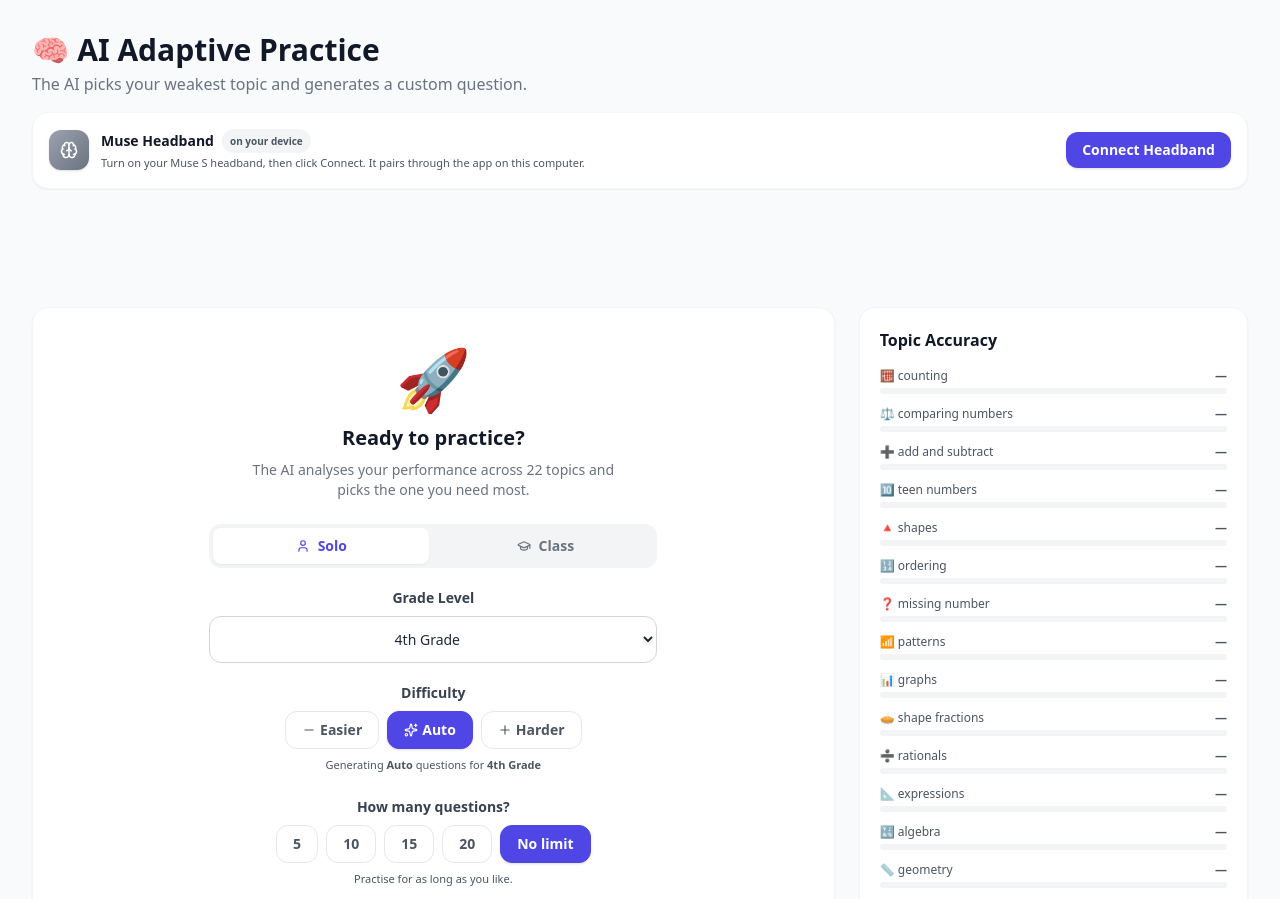
does not stop again a headband the student already disconnected
Click the button "Connect Headband". click: (1149, 150)
box: [1066, 132, 1231, 168]
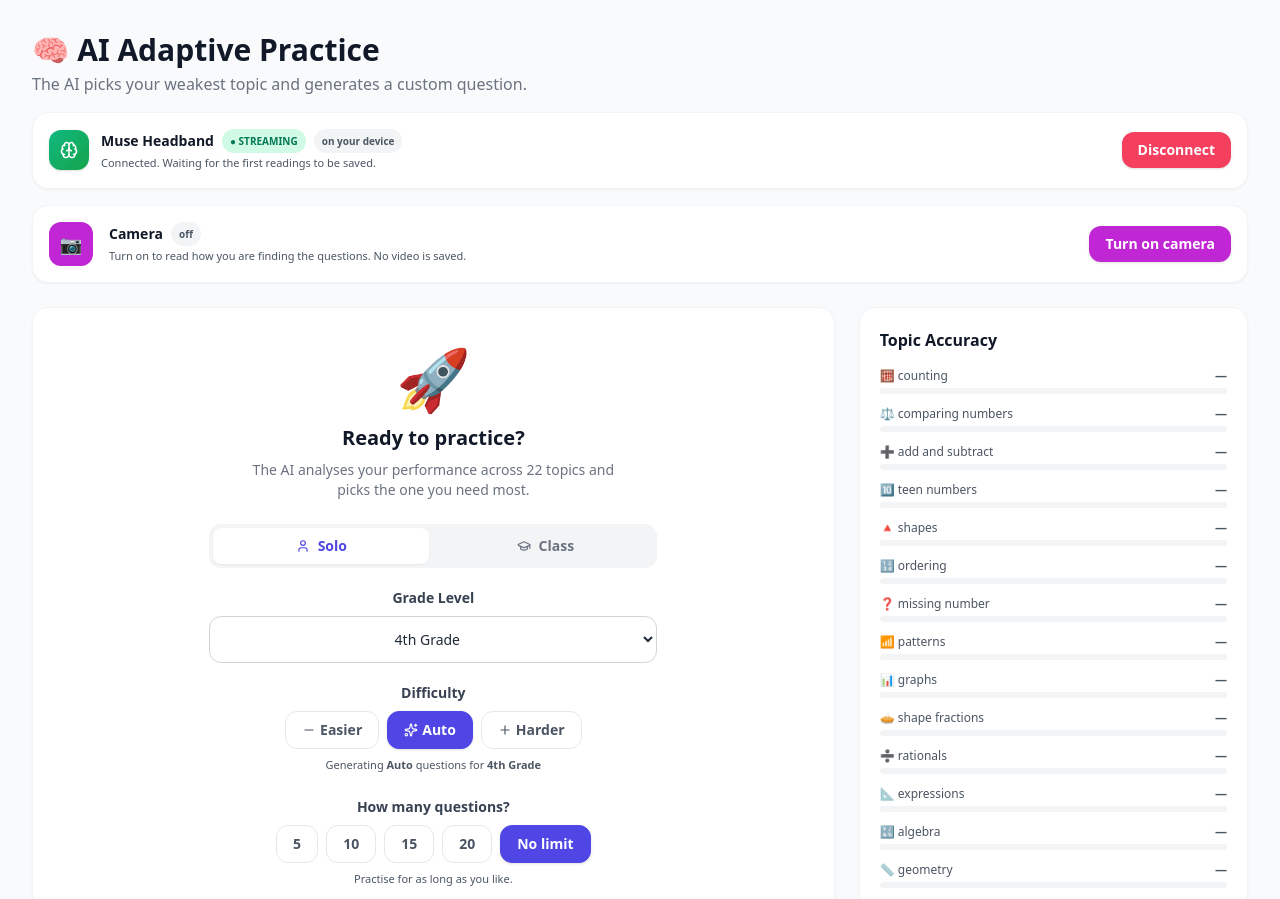
Check: the text "● STREAMING" is shown, box [222, 129, 306, 153]
Click the button "Disconnect". click: (1176, 150)
box: [1122, 132, 1231, 168]
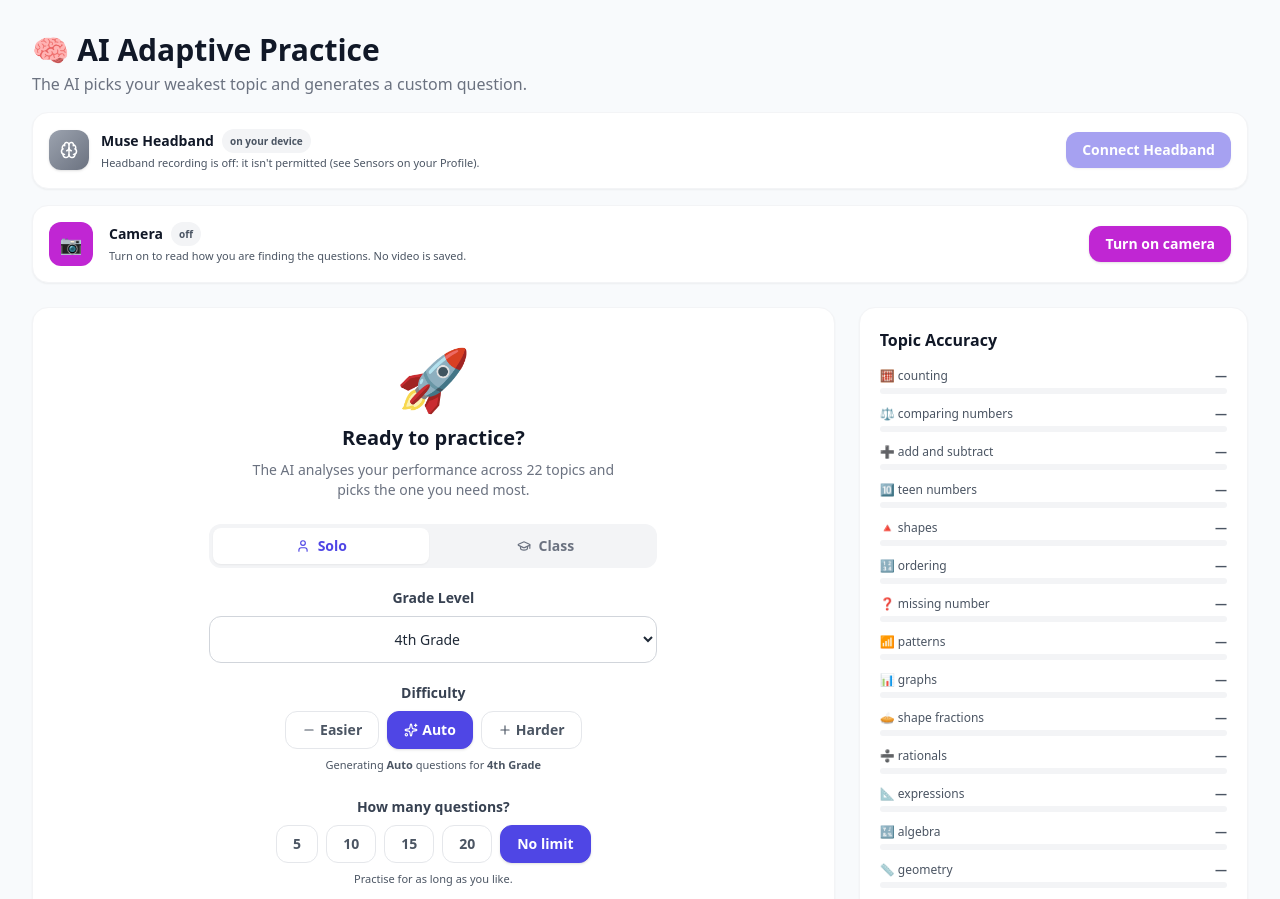
Check: the button "Connect Headband" is shown, box [1066, 132, 1231, 168]
